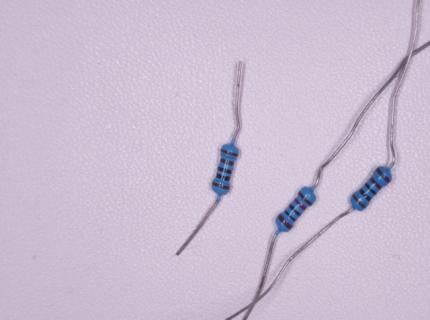Black band: (359, 189, 372, 201), (365, 183, 377, 195), (218, 167, 233, 174), (217, 174, 230, 182)
Brown band: (376, 167, 391, 182), (352, 195, 366, 209), (369, 176, 382, 191), (213, 182, 230, 190), (222, 149, 238, 157), (220, 158, 234, 166)
